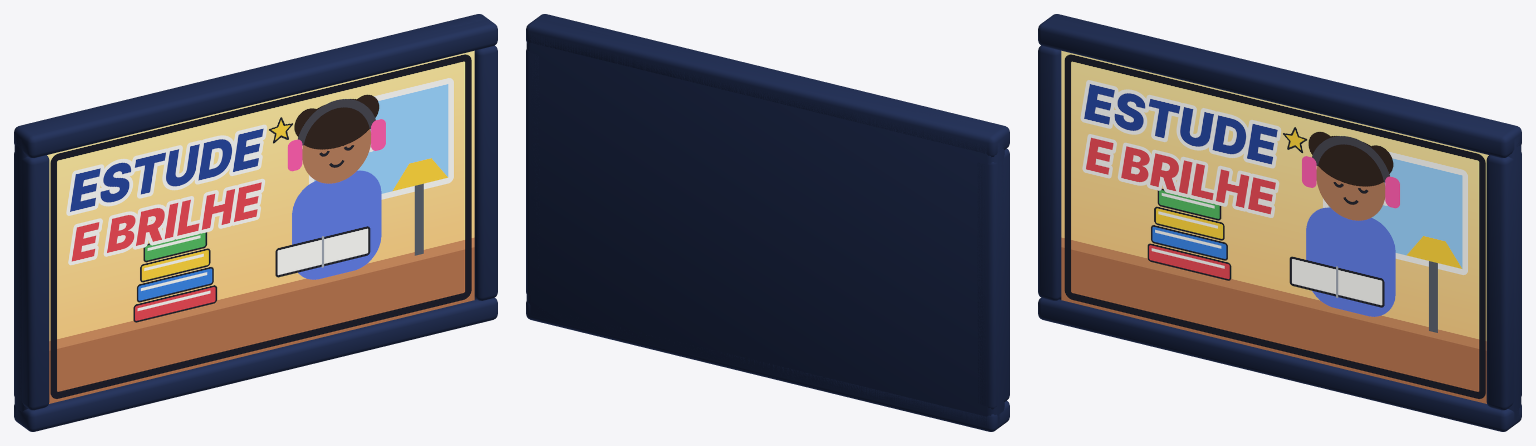
File: painel_estude_brilhe.glb
3 views of the same model, side by side, from view 1: azimuth 30°, elevation 25°; view 2: azimuth 150°, elevation 25°; view 3: azimuth 330°, elevation 25° (orthographic).
Parts seen in each view (by area): view 1: painel_estude_brilhe; view 2: painel_estude_brilhe; view 3: painel_estude_brilhe.
Boxes of the visible parts, left/top/right/bottom form: painel_estude_brilhe: left=14, top=14, right=497, bottom=431; painel_estude_brilhe: left=526, top=14, right=1009, bottom=431; painel_estude_brilhe: left=1038, top=14, right=1521, bottom=431.
Bounding box in the file's own units: 3.52 × 2.12 × 0.24.
Materials: 2 (2 with a texture image).
